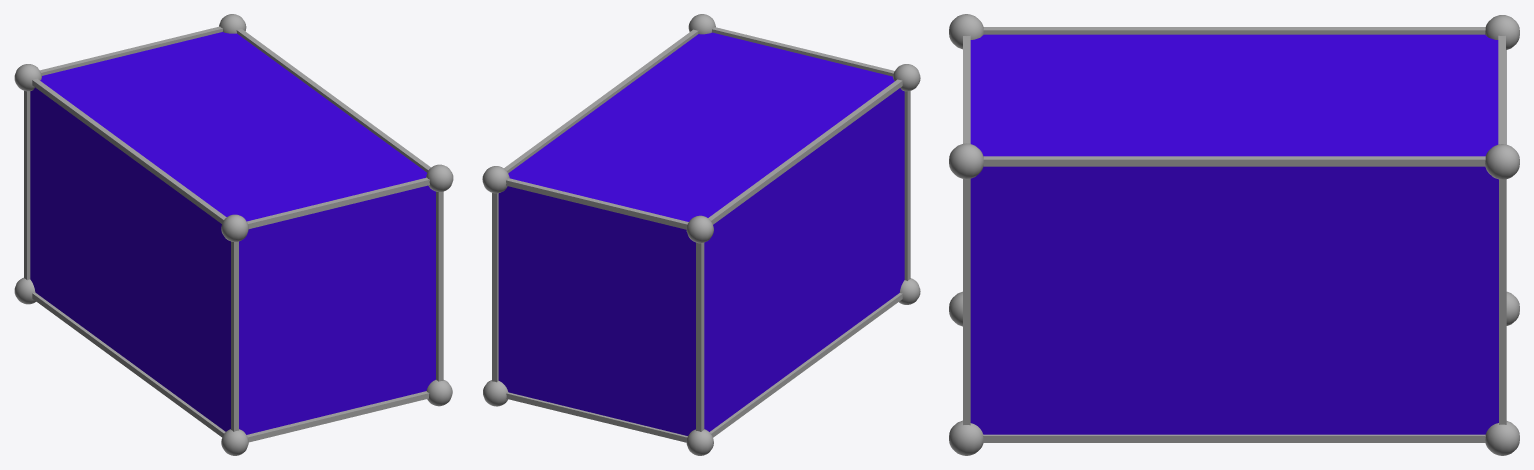
The model's file is blu.fbx.
3 views of the same model, side by side, from view 1: azimuth 30°, elevation 25°; view 2: azimuth 150°, elevation 25°; view 3: azimuth 270°, elevation 25° (orthographic). The views are drawn at different scales.
Parts seen in each view (by area): view 1: pCube17; view 2: pCube17; view 3: pCube17.
Boxes of the visible parts, x1,y1,x2,y2 form: pCube17: (14,14,453,455); pCube17: (482,14,920,455); pCube17: (949,14,1519,455).
Size of the model in its own units: 191 by 191 by 319.
